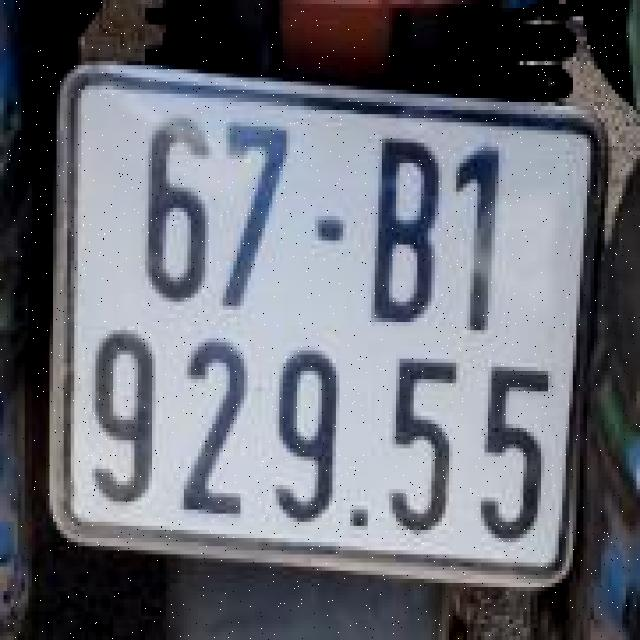1: (447, 141, 511, 332)
2: (171, 316, 253, 516)
5: (474, 352, 548, 556), (382, 340, 452, 544)
6: (136, 106, 214, 302)
7: (228, 118, 295, 310)
9: (83, 320, 161, 516), (272, 340, 343, 520)
B: (366, 126, 444, 326)
